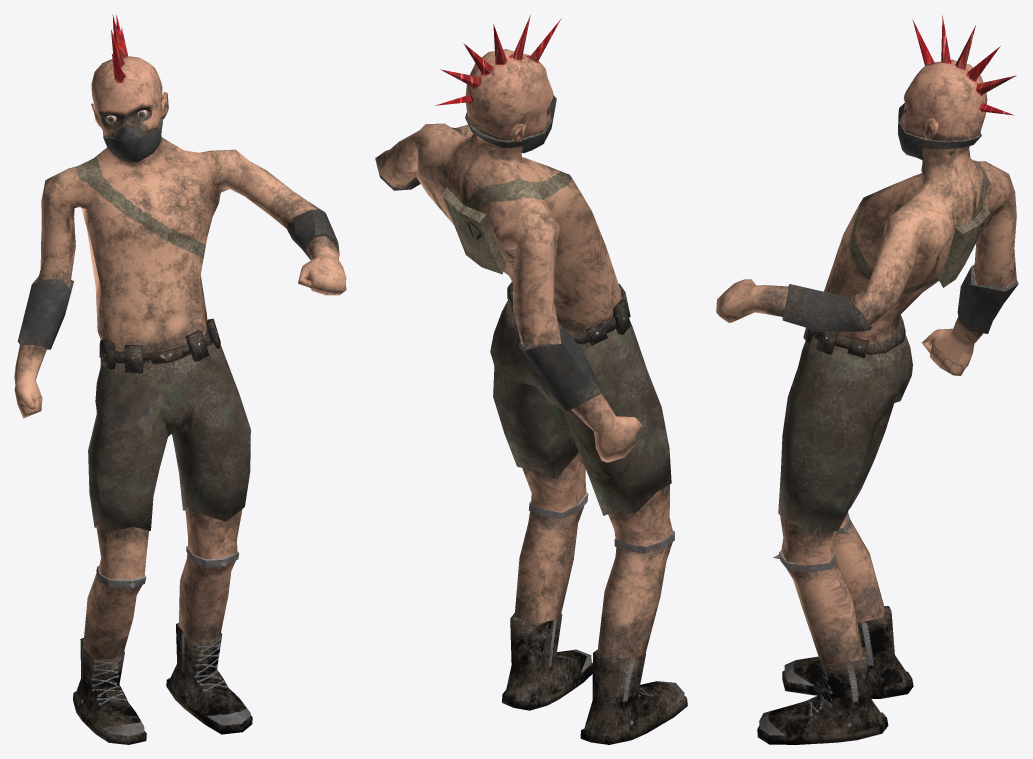
File: Anim_recibirdanyo_1_npc2.0023.obj
3 views of the same model, side by side, from view 1: azimuth 30°, elevation 25°; view 2: azimuth 150°, elevation 25°; view 3: azimuth 270°, elevation 25° (orthographic). The views are drawn at different scales.
Visible parts, largest first — view 1: polySurface1; view 2: polySurface1; view 3: polySurface1.
Part boxes in pixels (box(x1,y1,x2,y2)): polySurface1: box(14, 14, 346, 744); polySurface1: box(375, 15, 687, 744); polySurface1: box(716, 14, 1018, 744).
Bounding box in the file's own units: 4.18 × 9.67 × 3.79.
Materials: 2 (2 with a texture image).
